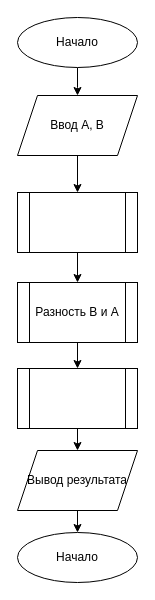
Some shapes in this 155 by 600 pixel diagram are drawn without their labels. The shapes that lost their labels are listed below. From the top down, each one's centre as x and y in pixels, then its label:
(x=77, y=222): Разность A и B
(x=77, y=398): Объединение двух разностей
